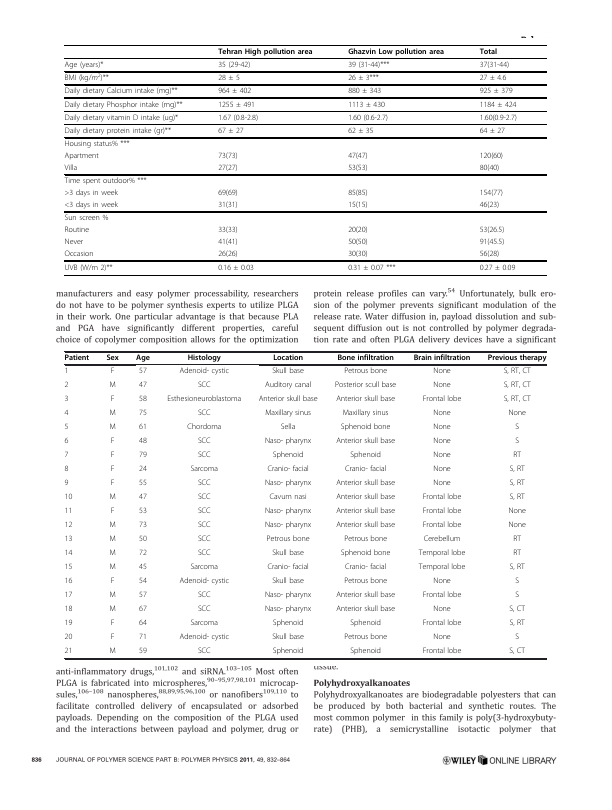borderless: (63, 350, 546, 658), (63, 43, 547, 275)
cell: (64, 100, 184, 109), (64, 126, 172, 136), (64, 87, 179, 96), (64, 113, 179, 122), (347, 47, 445, 56), (217, 47, 313, 56), (166, 395, 242, 405), (64, 177, 147, 186), (64, 139, 130, 149), (334, 381, 397, 391), (335, 395, 396, 405), (335, 437, 396, 447), (335, 479, 396, 489), (335, 493, 396, 503), (335, 507, 396, 517), (335, 521, 396, 531), (335, 591, 396, 601), (335, 605, 396, 615), (258, 395, 318, 405), (64, 200, 119, 210), (487, 354, 547, 363), (336, 354, 395, 363), (413, 354, 471, 363), (178, 367, 230, 377), (178, 577, 230, 587), (178, 633, 230, 643), (63, 72, 110, 83), (340, 423, 391, 433), (340, 549, 391, 559), (64, 189, 119, 198), (264, 381, 312, 391), (264, 409, 312, 419), (264, 437, 312, 447), (264, 479, 312, 489), (264, 507, 312, 517), (264, 521, 312, 531), (418, 549, 466, 559), (418, 563, 466, 573), (264, 591, 312, 601), (264, 605, 312, 615), (342, 409, 389, 419), (343, 367, 388, 377), (343, 535, 388, 545), (343, 577, 388, 587), (343, 633, 388, 643), (64, 263, 113, 272), (347, 263, 396, 272), (266, 465, 310, 475), (266, 535, 310, 545), (266, 563, 310, 573), (344, 465, 387, 475), (344, 563, 387, 573), (347, 60, 390, 70), (63, 60, 104, 70), (64, 214, 109, 223), (422, 395, 462, 405), (268, 493, 308, 503), (422, 493, 462, 503), (422, 507, 462, 517), (422, 521, 462, 531), (422, 591, 462, 601), (422, 619, 462, 629), (422, 647, 462, 657), (423, 535, 461, 545), (217, 113, 259, 122), (347, 113, 389, 122), (186, 423, 222, 433), (64, 151, 100, 161), (217, 100, 256, 109), (347, 100, 386, 109), (479, 113, 518, 122), (479, 100, 517, 109), (217, 263, 255, 272), (271, 367, 305, 377), (271, 549, 305, 559), (271, 577, 305, 587), (271, 633, 305, 643), (217, 60, 251, 70), (479, 263, 516, 272), (349, 451, 382, 461), (349, 619, 382, 629), (349, 647, 382, 657), (347, 73, 380, 83), (272, 451, 304, 461), (272, 619, 304, 629), (272, 647, 304, 657), (187, 354, 222, 363), (217, 87, 252, 96), (347, 87, 382, 96), (479, 87, 514, 96), (479, 60, 510, 70), (189, 465, 219, 475), (189, 563, 219, 573), (189, 619, 219, 629), (503, 367, 532, 377), (503, 381, 532, 391), (503, 395, 532, 405), (272, 354, 304, 363), (479, 73, 507, 83), (217, 126, 244, 136), (347, 126, 374, 136), (479, 126, 506, 136), (64, 250, 94, 259), (479, 151, 504, 161), (217, 73, 241, 83), (64, 354, 90, 363), (64, 226, 90, 235), (479, 226, 505, 235), (479, 238, 505, 247), (479, 189, 504, 198), (217, 151, 239, 161), (217, 163, 239, 173), (217, 200, 239, 210), (347, 151, 368, 161), (347, 163, 368, 173), (479, 163, 500, 173), (347, 200, 368, 210), (479, 200, 500, 210), (432, 367, 452, 377), (432, 381, 452, 391), (432, 409, 452, 419), (507, 409, 527, 419), (432, 423, 452, 433), (432, 437, 452, 447), (432, 451, 452, 461), (432, 465, 452, 475), (432, 479, 452, 489), (507, 507, 527, 517), (507, 521, 527, 531), (432, 577, 452, 587), (432, 605, 452, 615), (432, 633, 452, 643), (217, 189, 239, 198), (217, 226, 239, 235), (217, 238, 239, 247), (217, 250, 239, 259), (347, 189, 368, 198), (347, 226, 368, 235), (347, 238, 368, 247), (347, 250, 368, 259), (479, 250, 500, 259), (508, 605, 526, 615), (508, 647, 526, 657), (64, 238, 84, 247), (479, 47, 498, 56), (509, 465, 526, 475), (509, 479, 526, 489), (509, 493, 526, 503), (509, 563, 526, 573), (509, 619, 526, 629), (280, 423, 296, 433), (135, 354, 151, 363), (197, 381, 211, 391), (197, 409, 211, 419), (197, 437, 211, 447), (197, 451, 211, 461), (197, 479, 211, 489), (197, 493, 211, 503), (197, 507, 211, 517), (197, 521, 211, 531), (197, 535, 211, 545), (197, 549, 211, 559), (197, 591, 211, 601), (197, 605, 211, 615), (197, 647, 211, 657), (64, 163, 78, 173), (105, 354, 120, 363), (138, 367, 148, 377), (138, 381, 148, 391), (138, 395, 148, 405), (138, 409, 148, 419), (138, 423, 148, 433), (138, 437, 148, 447), (138, 451, 148, 461), (512, 451, 522, 461), (138, 465, 148, 475), (138, 479, 148, 489), (138, 493, 148, 503), (138, 507, 148, 517), (138, 521, 148, 531), (138, 535, 148, 545), (512, 535, 522, 545), (138, 549, 148, 559), (512, 549, 522, 559), (138, 563, 148, 573), (138, 577, 148, 587), (138, 591, 148, 601), (138, 605, 148, 615), (138, 619, 148, 629), (138, 633, 148, 643), (138, 647, 148, 657), (108, 381, 117, 391), (108, 409, 117, 419), (108, 423, 117, 433), (64, 493, 73, 503), (108, 493, 117, 503), (64, 507, 73, 517), (64, 521, 73, 531), (108, 521, 117, 531), (64, 535, 73, 545), (108, 535, 117, 545), (64, 549, 73, 559), (108, 549, 117, 559), (64, 563, 73, 573), (108, 563, 117, 573), (64, 577, 73, 587), (64, 591, 73, 601), (108, 591, 117, 601), (64, 605, 73, 615), (108, 605, 117, 615), (64, 619, 73, 629), (64, 633, 73, 643), (64, 647, 73, 657), (108, 647, 117, 657), (514, 423, 520, 433), (514, 437, 520, 447), (514, 577, 520, 587), (514, 591, 520, 601), (514, 633, 520, 643), (64, 367, 69, 377), (110, 367, 115, 377), (64, 381, 69, 391), (64, 395, 69, 405), (110, 395, 115, 405), (64, 409, 69, 419), (64, 423, 69, 433), (64, 437, 69, 447), (110, 437, 115, 447), (64, 451, 69, 461), (110, 451, 115, 461), (64, 465, 69, 475), (110, 465, 115, 475), (64, 479, 69, 489), (110, 479, 115, 489), (110, 507, 115, 517), (110, 577, 115, 587), (110, 619, 115, 629), (110, 633, 115, 643)
